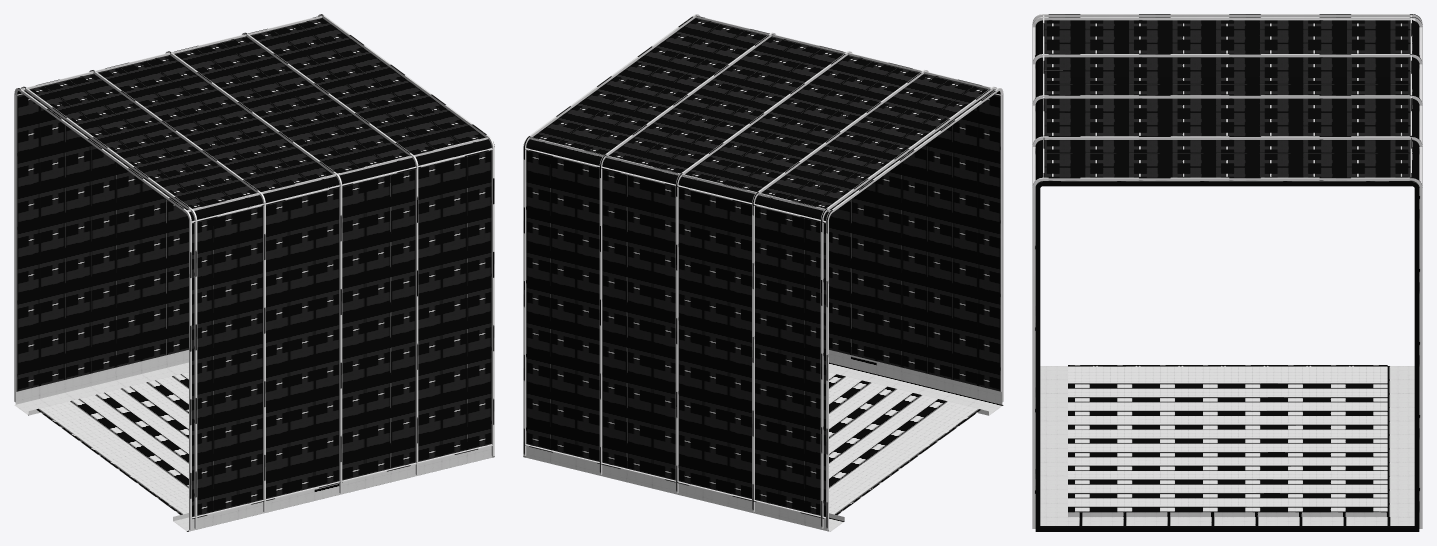
The picture shows the model from 3 angles, left to right: view 1: azimuth 30°, elevation 25°; view 2: azimuth 150°, elevation 25°; view 3: azimuth 270°, elevation 25°; orthographic projection. The views are drawn at different scales.
Visible parts, largest first — view 1: S_C_06_01_F.003, S_C_06_01_F.002, S_C_06_01_F.001, S_C_06_01_F.004; view 2: S_C_06_01_F.003, S_C_06_01_F.002, S_C_06_01_F.001, S_C_06_01_F.004; view 3: S_C_06_01_F.003, S_C_06_01_F.001, S_C_06_01_F.002, S_C_06_01_F.004.
Part boxes in pixels (x1=…): S_C_06_01_F.003: x1=17, y1=18, x2=491, y2=516; S_C_06_01_F.002: x1=14, y1=14, x2=494, y2=530; S_C_06_01_F.001: x1=36, y1=372, x2=188, y2=514; S_C_06_01_F.004: x1=14, y1=350, x2=492, y2=531; S_C_06_01_F.003: x1=526, y1=18, x2=1000, y2=516; S_C_06_01_F.002: x1=523, y1=14, x2=1003, y2=530; S_C_06_01_F.001: x1=829, y1=372, x2=981, y2=515; S_C_06_01_F.004: x1=525, y1=350, x2=1003, y2=531; S_C_06_01_F.003: x1=1044, y1=20, x2=1410, y2=177; S_C_06_01_F.001: x1=1068, y1=365, x2=1387, y2=512; S_C_06_01_F.002: x1=1032, y1=14, x2=1422, y2=531; S_C_06_01_F.004: x1=1040, y1=366, x2=1414, y2=525.
Size of the model in its own units: 46.4 by 46.08 by 45.99.
